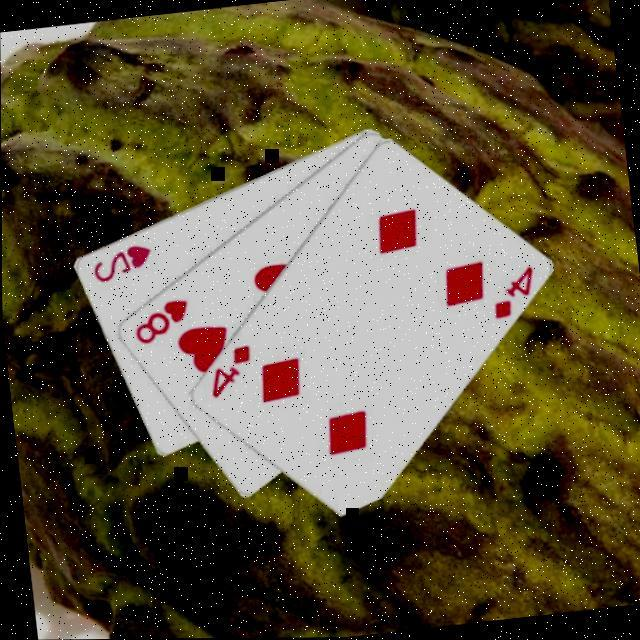2H: (87, 241, 157, 288)
4D: (485, 264, 541, 326), (202, 342, 258, 403)
8H: (127, 296, 194, 349)
